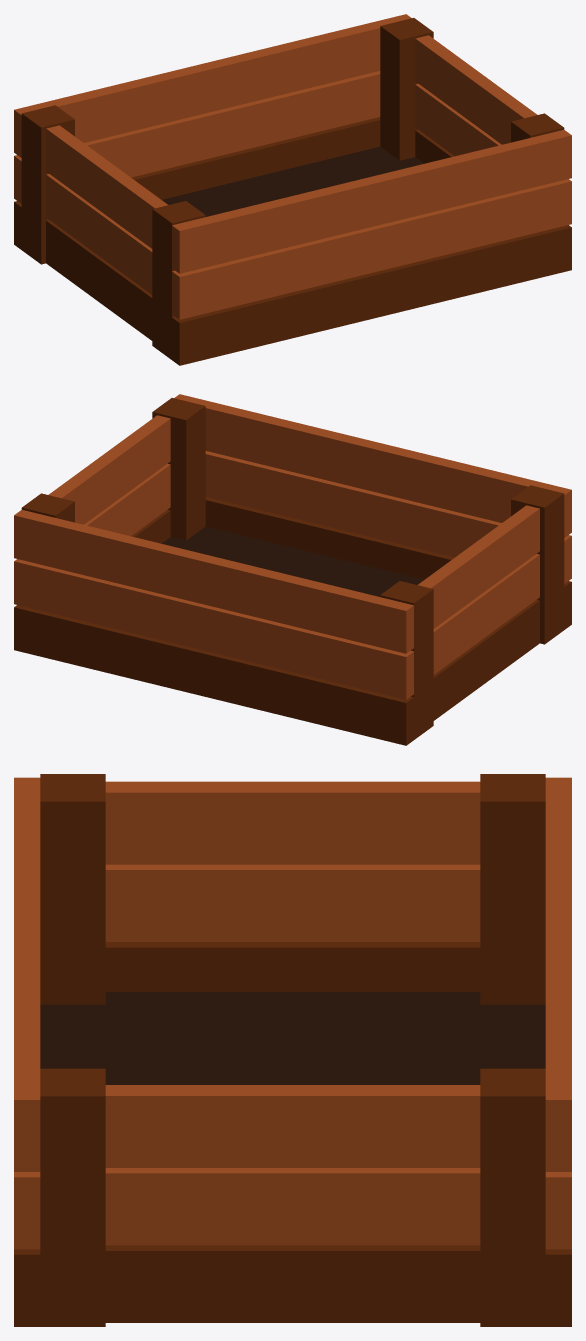
Rendered from Crate 02.fbx.
3 views of the same model, one above another, from view 1: azimuth 30°, elevation 25°; view 2: azimuth 150°, elevation 25°; view 3: azimuth 270°, elevation 25° (orthographic). The views are drawn at different scales.
Visible parts, largest first — view 1: Crate_02; view 2: Crate_02; view 3: Crate_02.
Boxes of the visible parts, <box> form: Crate_02: <box>14,14,571,365</box>; Crate_02: <box>14,394,571,745</box>; Crate_02: <box>14,774,571,1326</box>.
Bounding box in the file's own units: 233 × 77.54 × 170.
